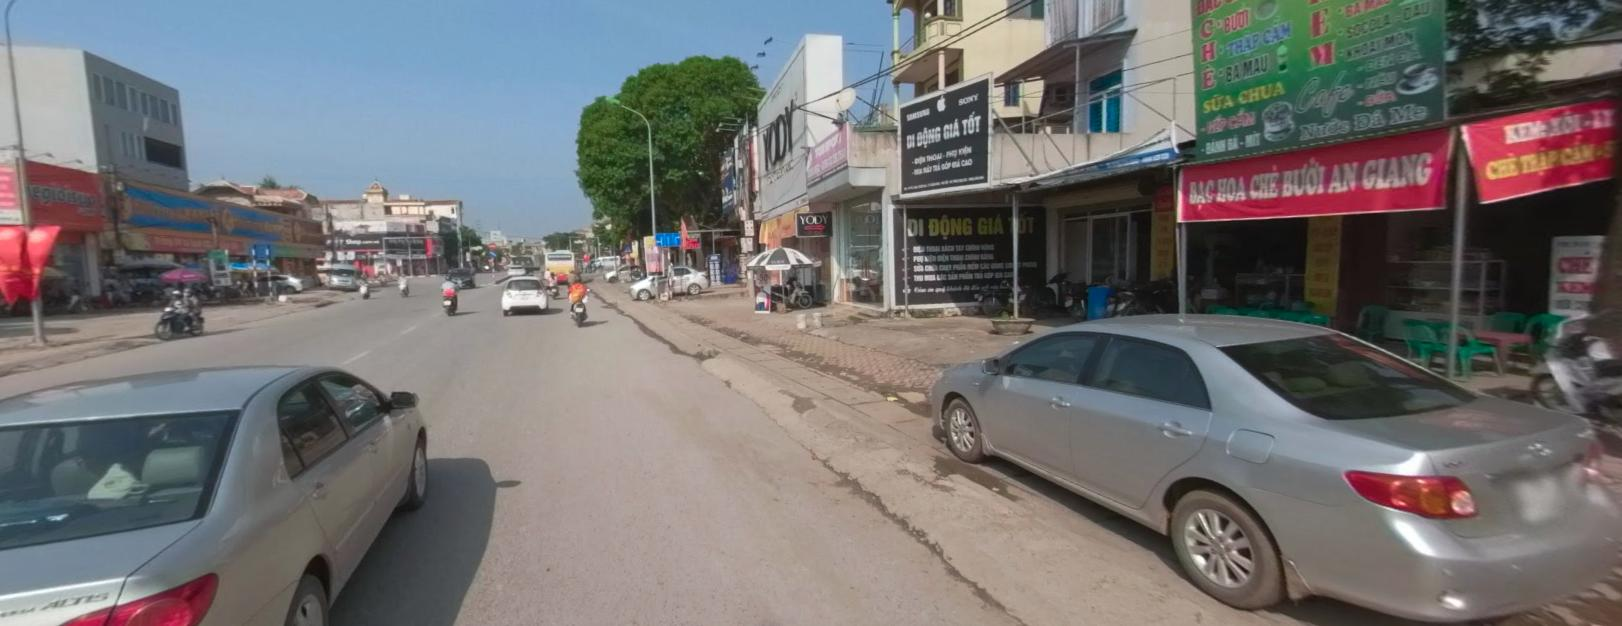Cam nguoc chieu: (488, 241, 495, 248)
Hieu lenh: (487, 248, 495, 255)
